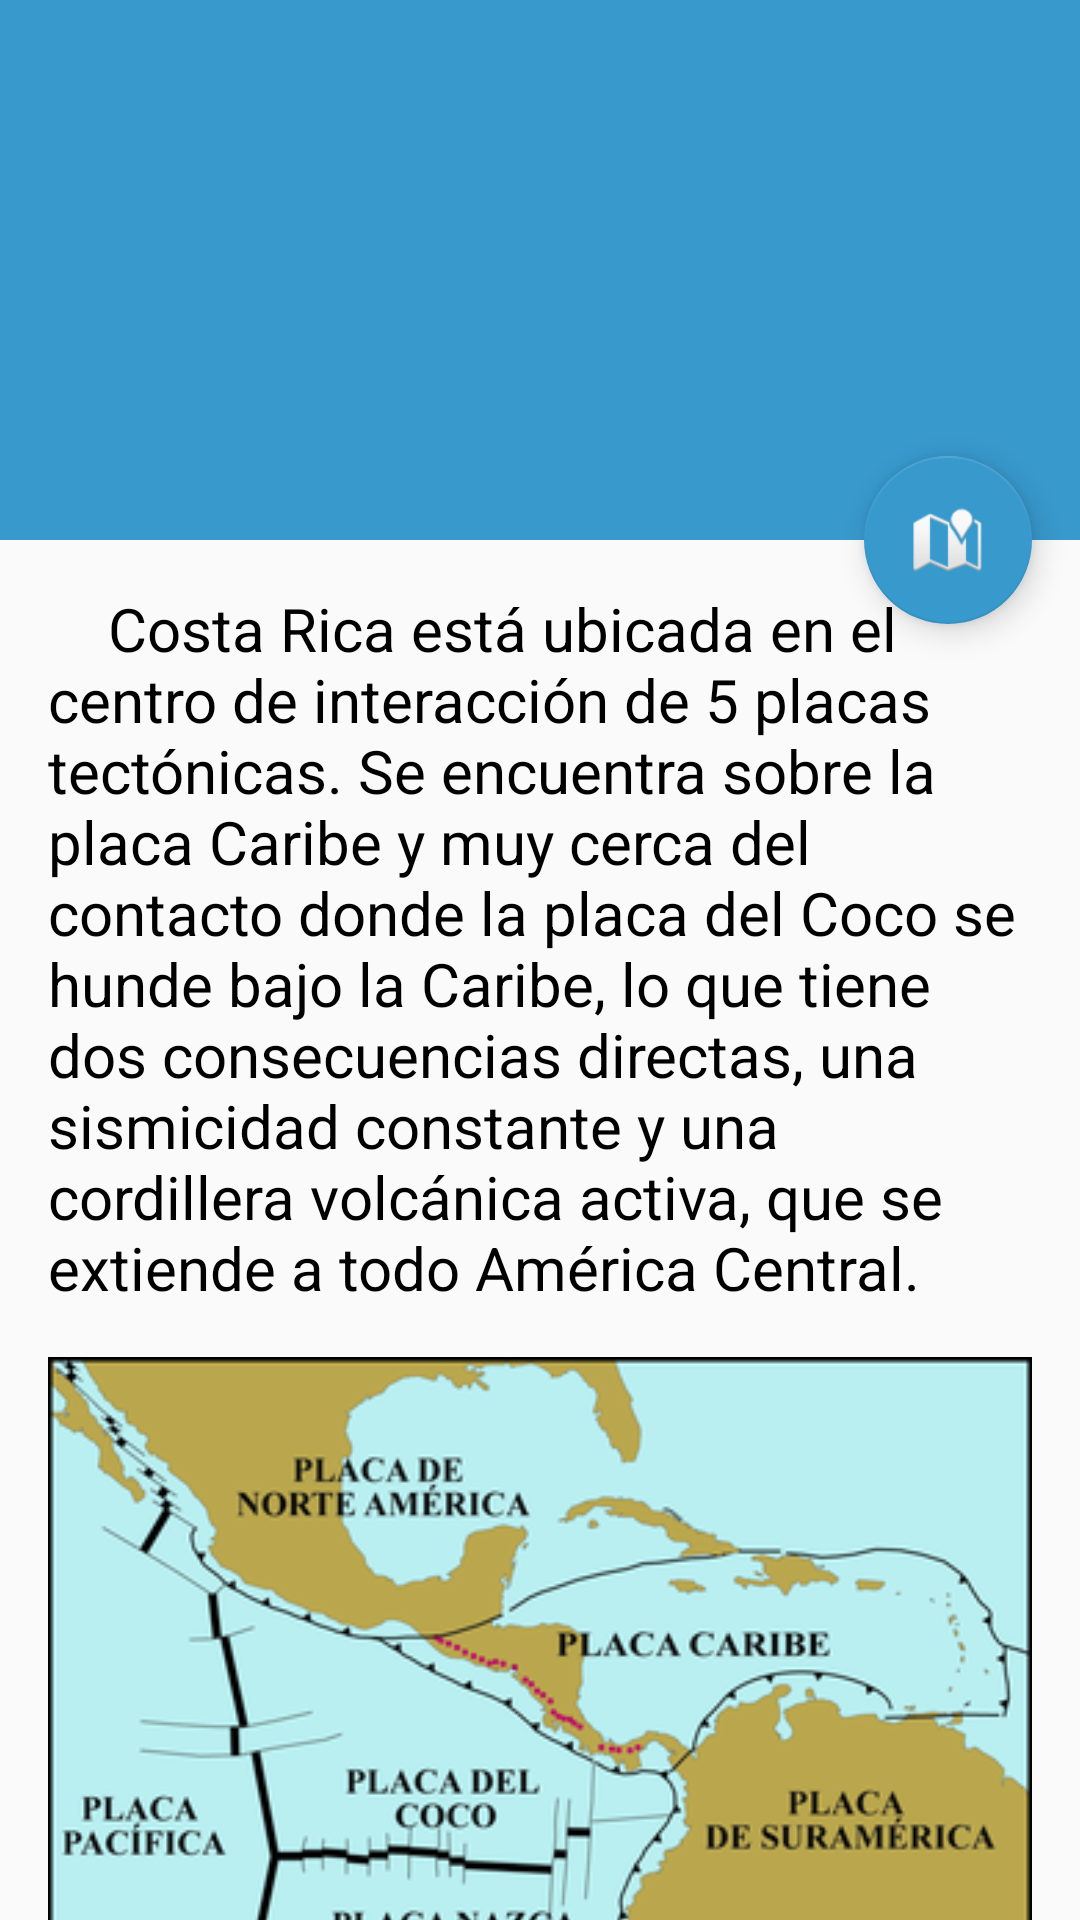

Point at icon controls on the screen. Image size 1080 × 1920, points as (x=x, y=y).
map: (x=948, y=540)
